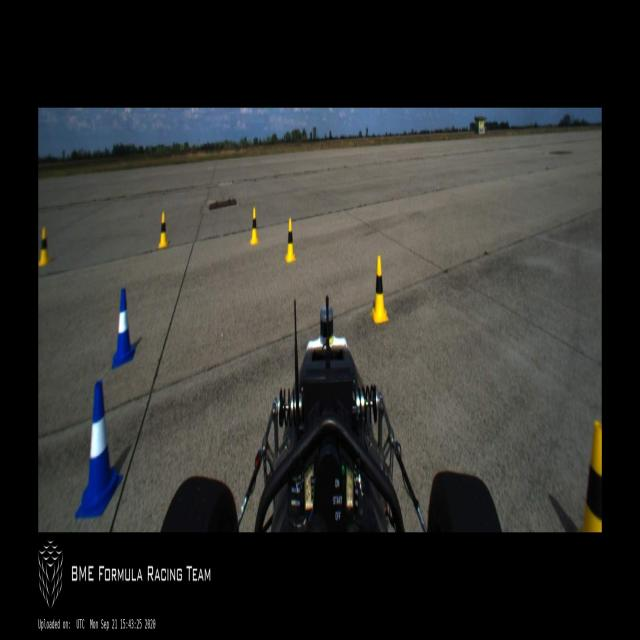blue_cone: (74, 380, 122, 518), (111, 288, 135, 368)
yellow_cone: (582, 421, 602, 532), (369, 255, 388, 323), (39, 226, 51, 268), (285, 218, 296, 263), (249, 206, 259, 245), (158, 212, 168, 248)
